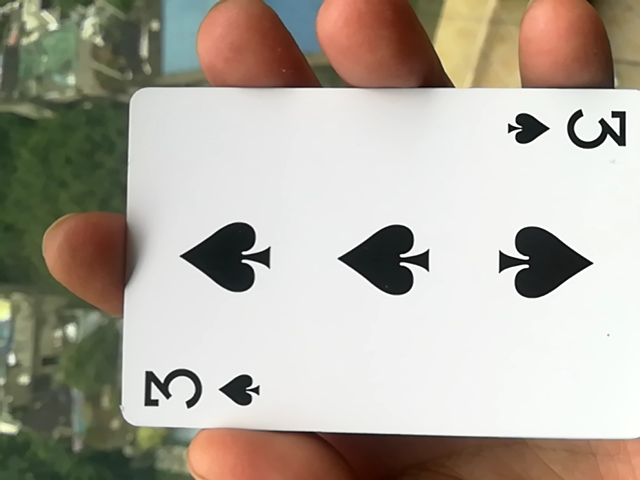ht 3: (103, 96, 636, 459)
